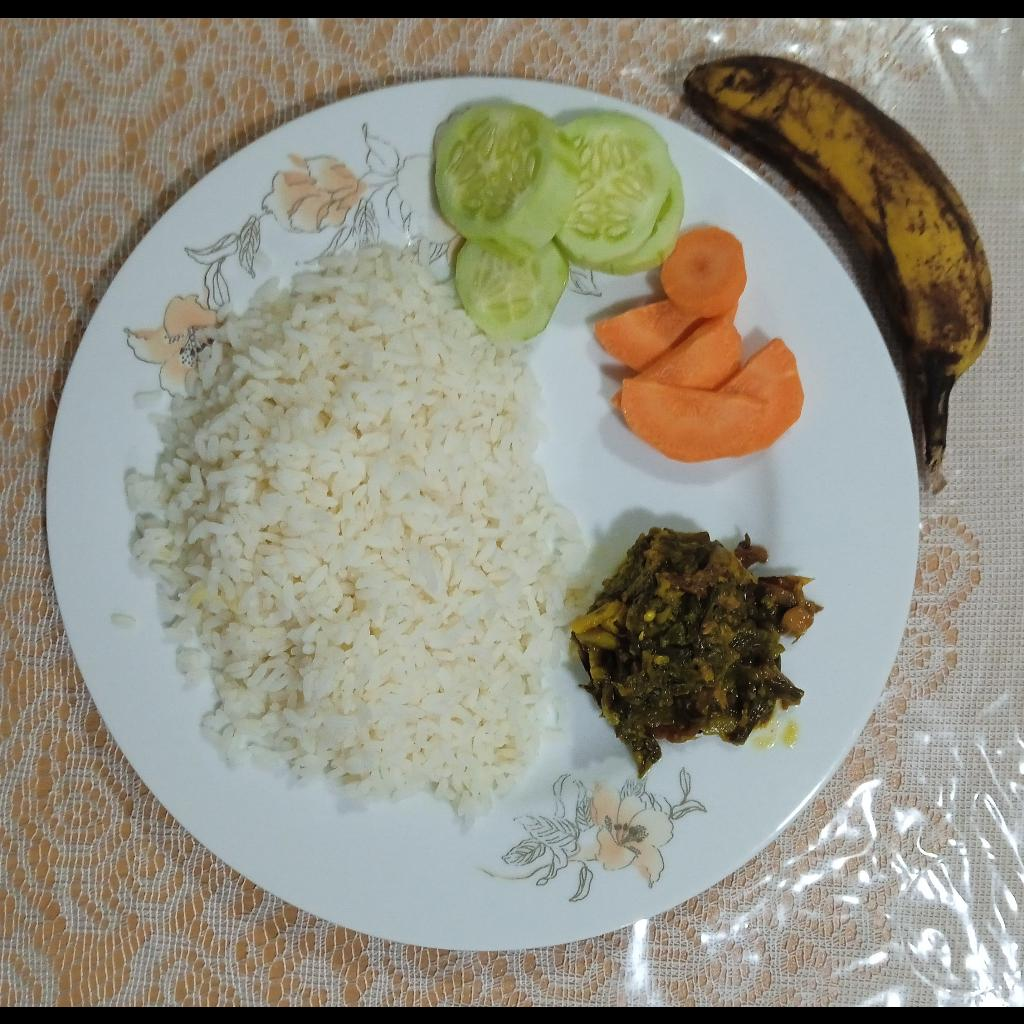banana: (682, 55, 994, 473)
carrot: (595, 226, 806, 462)
cucumber: (435, 104, 685, 343)
rice: (120, 237, 607, 833)
shak: (571, 525, 823, 778)
